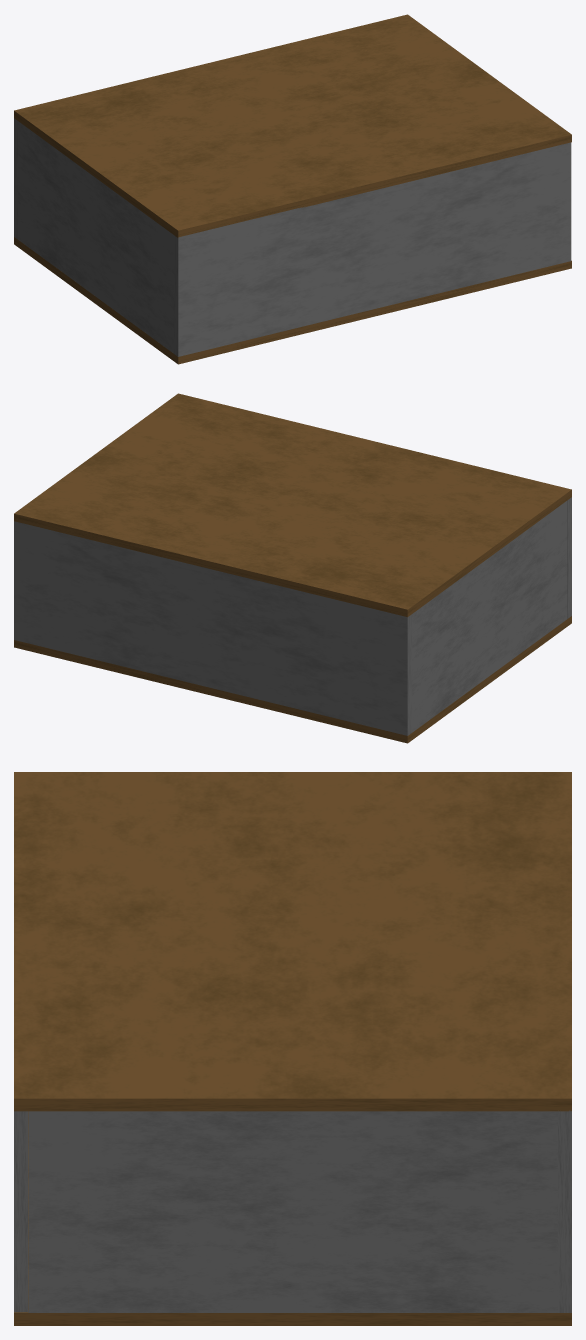
Rendered from Frame 17. Hydraulic equipment room with reservoir, pump, controller and pressure piping.fbx.
3 renders of one model, top to bottom at view 1: azimuth 30°, elevation 25°; view 2: azimuth 150°, elevation 25°; view 3: azimuth 270°, elevation 25°, orthographic. The views are drawn at different scales.
Parts seen in each view (by area): view 1: Cube.096, Cube.070, Cube.068, Cube.066, Cube.067; view 2: Cube.096, Cube.067, Cube.068, Cube.066, Cube.070; view 3: Cube.096, Cube.069, Cube.066, Cube.067, Cube.070.
Part boxes in pixels (x1,y1,x2,y2): Cube.096: (14, 14, 571, 237); Cube.070: (174, 142, 571, 356); Cube.068: (18, 121, 173, 353); Cube.066: (14, 237, 571, 364); Cube.067: (14, 118, 17, 239); Cube.096: (14, 393, 571, 617); Cube.067: (14, 521, 411, 735); Cube.068: (412, 500, 567, 732); Cube.066: (14, 616, 571, 743); Cube.070: (567, 497, 571, 618); Cube.096: (14, 772, 571, 1111); Cube.069: (28, 1111, 557, 1312); Cube.066: (14, 1111, 571, 1325); Cube.067: (558, 1110, 571, 1312); Cube.070: (14, 1111, 27, 1312).
Size of the model in its own units: 10965 by 3560 by 7920.
